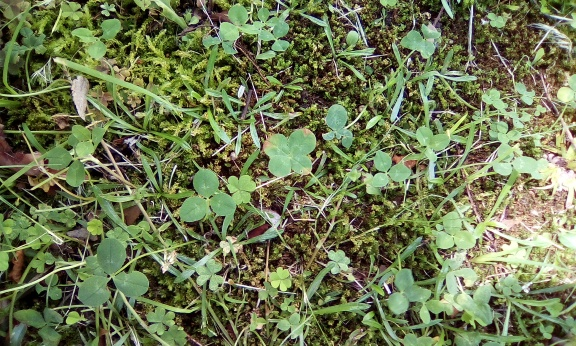4leaf: (262, 128, 317, 177)
